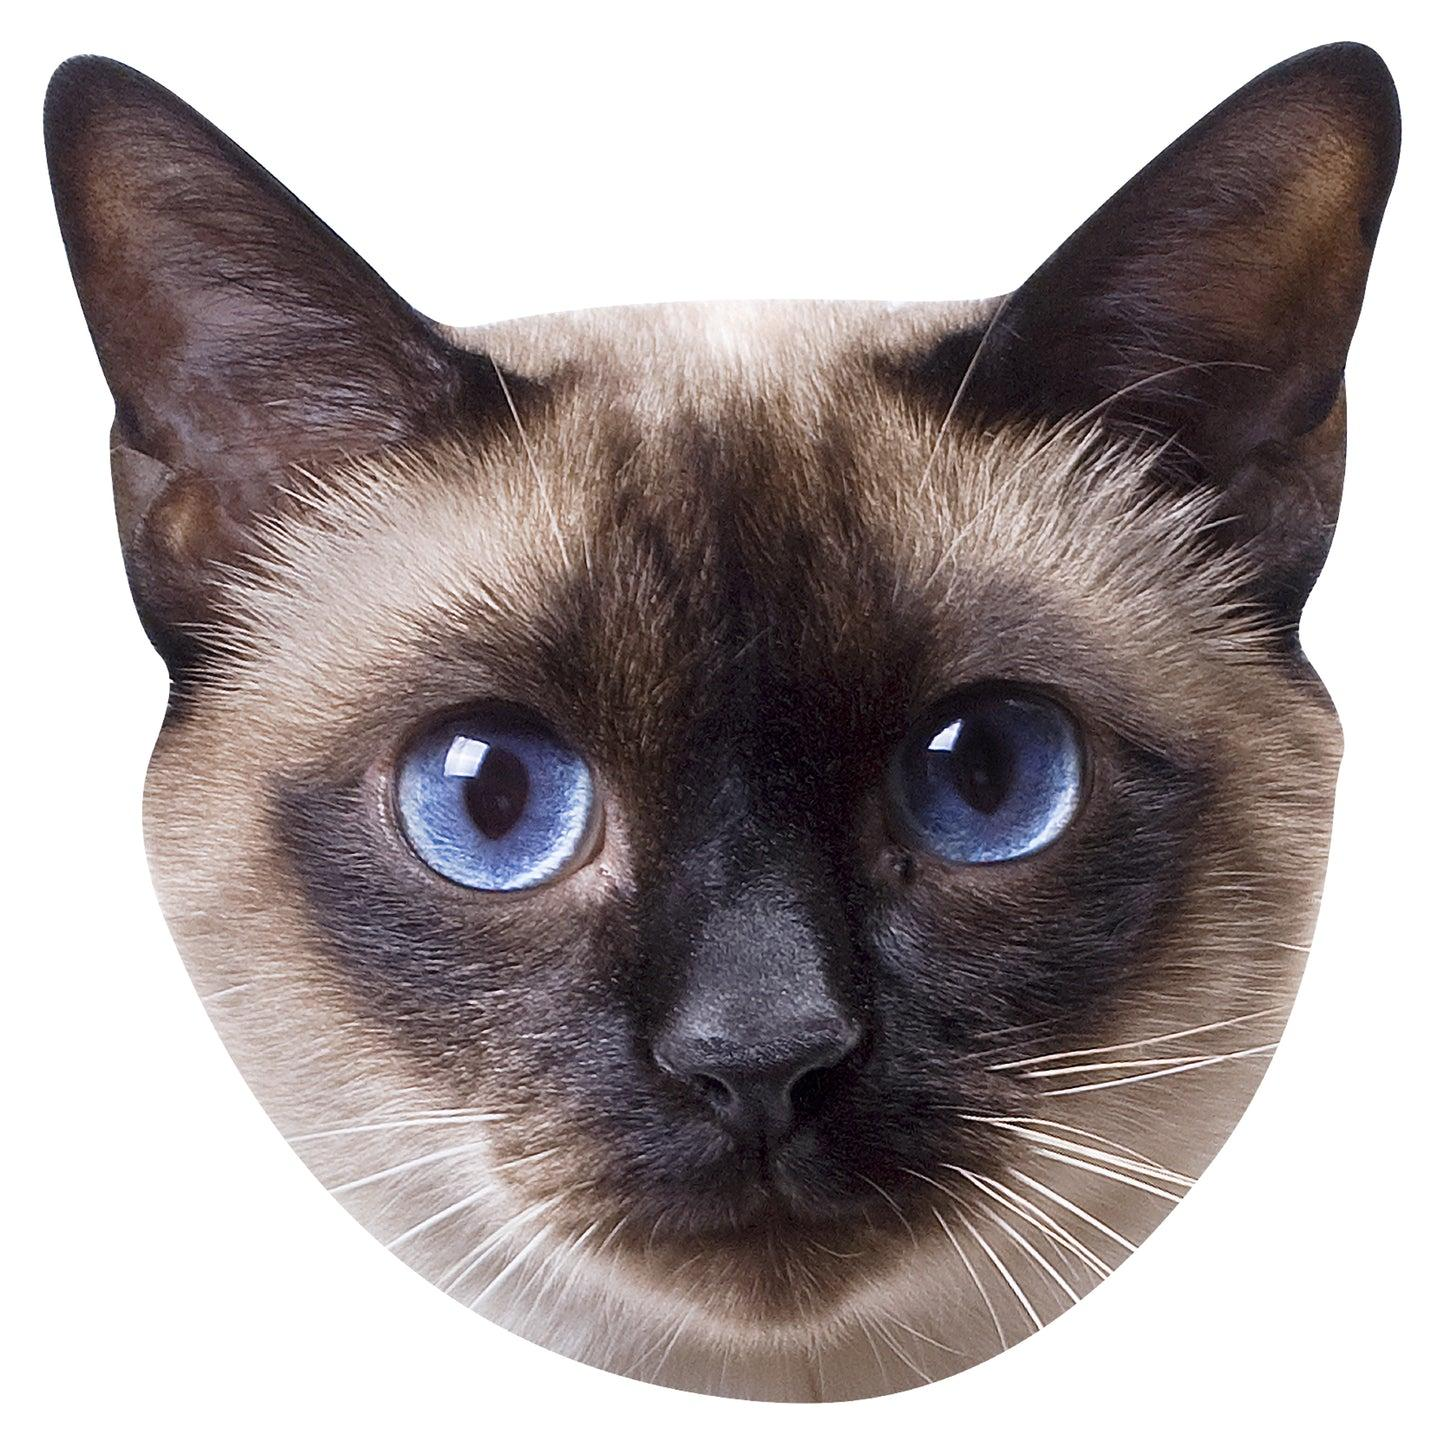siamese: (7, 5, 1445, 1395)
